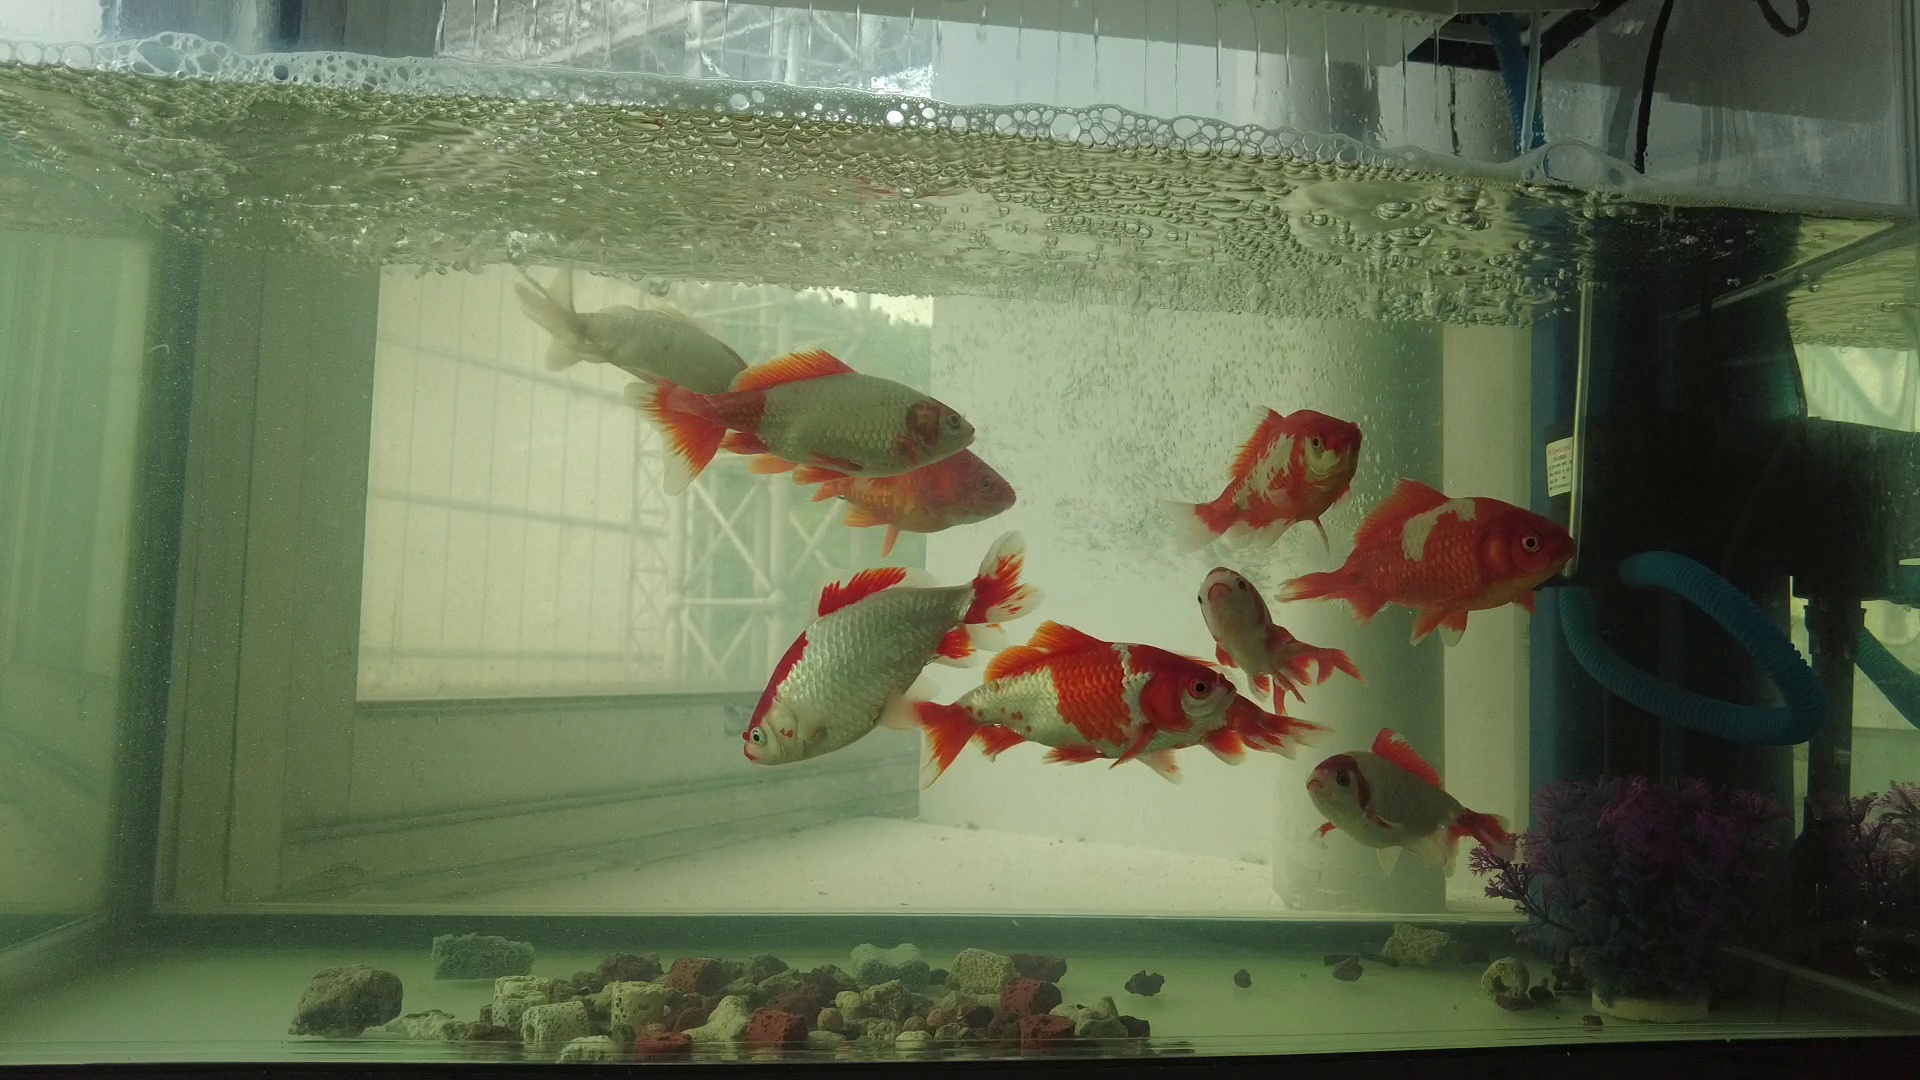fish: (735, 521, 1054, 773), (868, 611, 1245, 795), (1269, 465, 1588, 655), (618, 342, 985, 502), (711, 414, 1025, 564), (504, 255, 756, 410), (1294, 720, 1522, 885), (1154, 397, 1373, 564), (1188, 556, 1374, 727)
